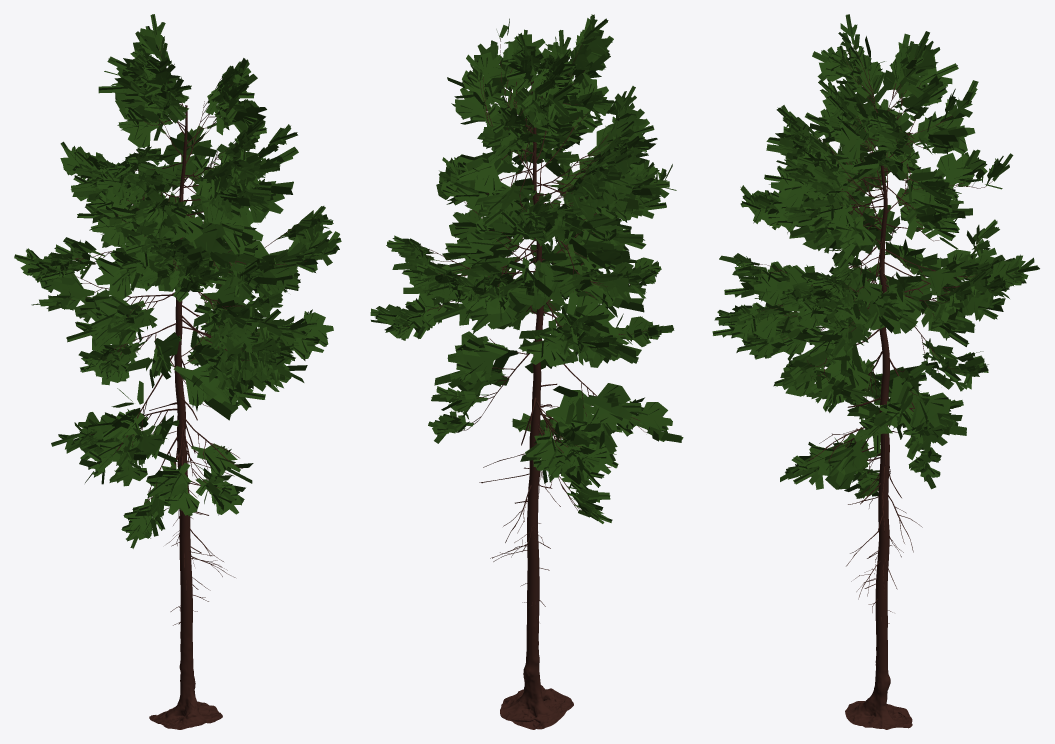
Rendered from fir_b_lod0.obj.
3 renders of one model, left to right at view 1: azimuth 30°, elevation 25°; view 2: azimuth 150°, elevation 25°; view 3: azimuth 270°, elevation 25°, orthographic. The views are drawn at different scales.
Visible parts, largest first — view 1: fir_b_lod0; view 2: fir_b_lod0; view 3: fir_b_lod0.
Boxes of the visible parts, x1,y1,x2,y2 form: fir_b_lod0: (14, 14, 341, 729); fir_b_lod0: (370, 14, 683, 729); fir_b_lod0: (712, 14, 1039, 729).
Size of the model in its own units: 222 by 554 by 240.
